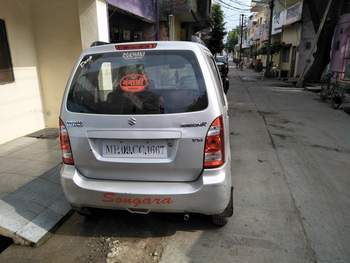plate: (91, 138, 178, 170)
